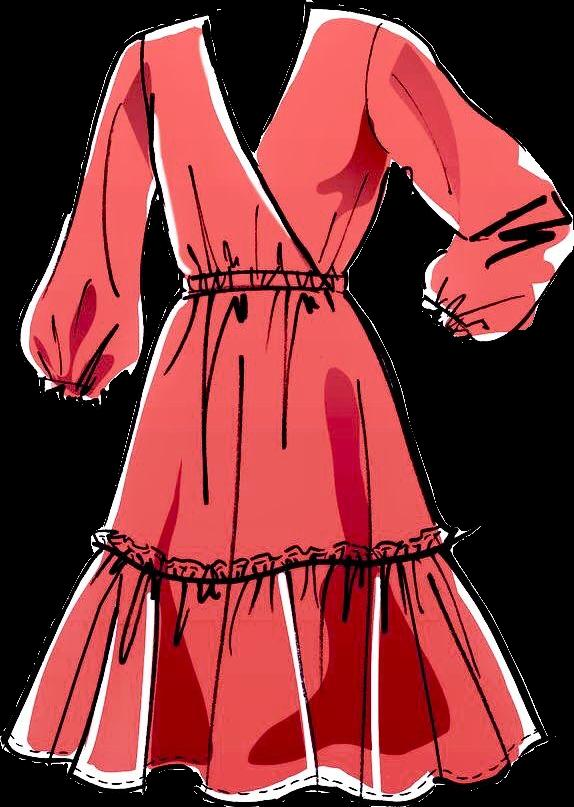Bodice: (140, 2, 392, 295)
Hemline: (0, 733, 554, 806)
Neckline: (201, 2, 318, 161)
Skirt: (1, 290, 546, 806)
Sleeve: (364, 14, 572, 341), (20, 30, 155, 400)
Sleeveline: (363, 18, 397, 159), (137, 31, 160, 186)
Waistline: (94, 539, 449, 592), (174, 284, 353, 301)
